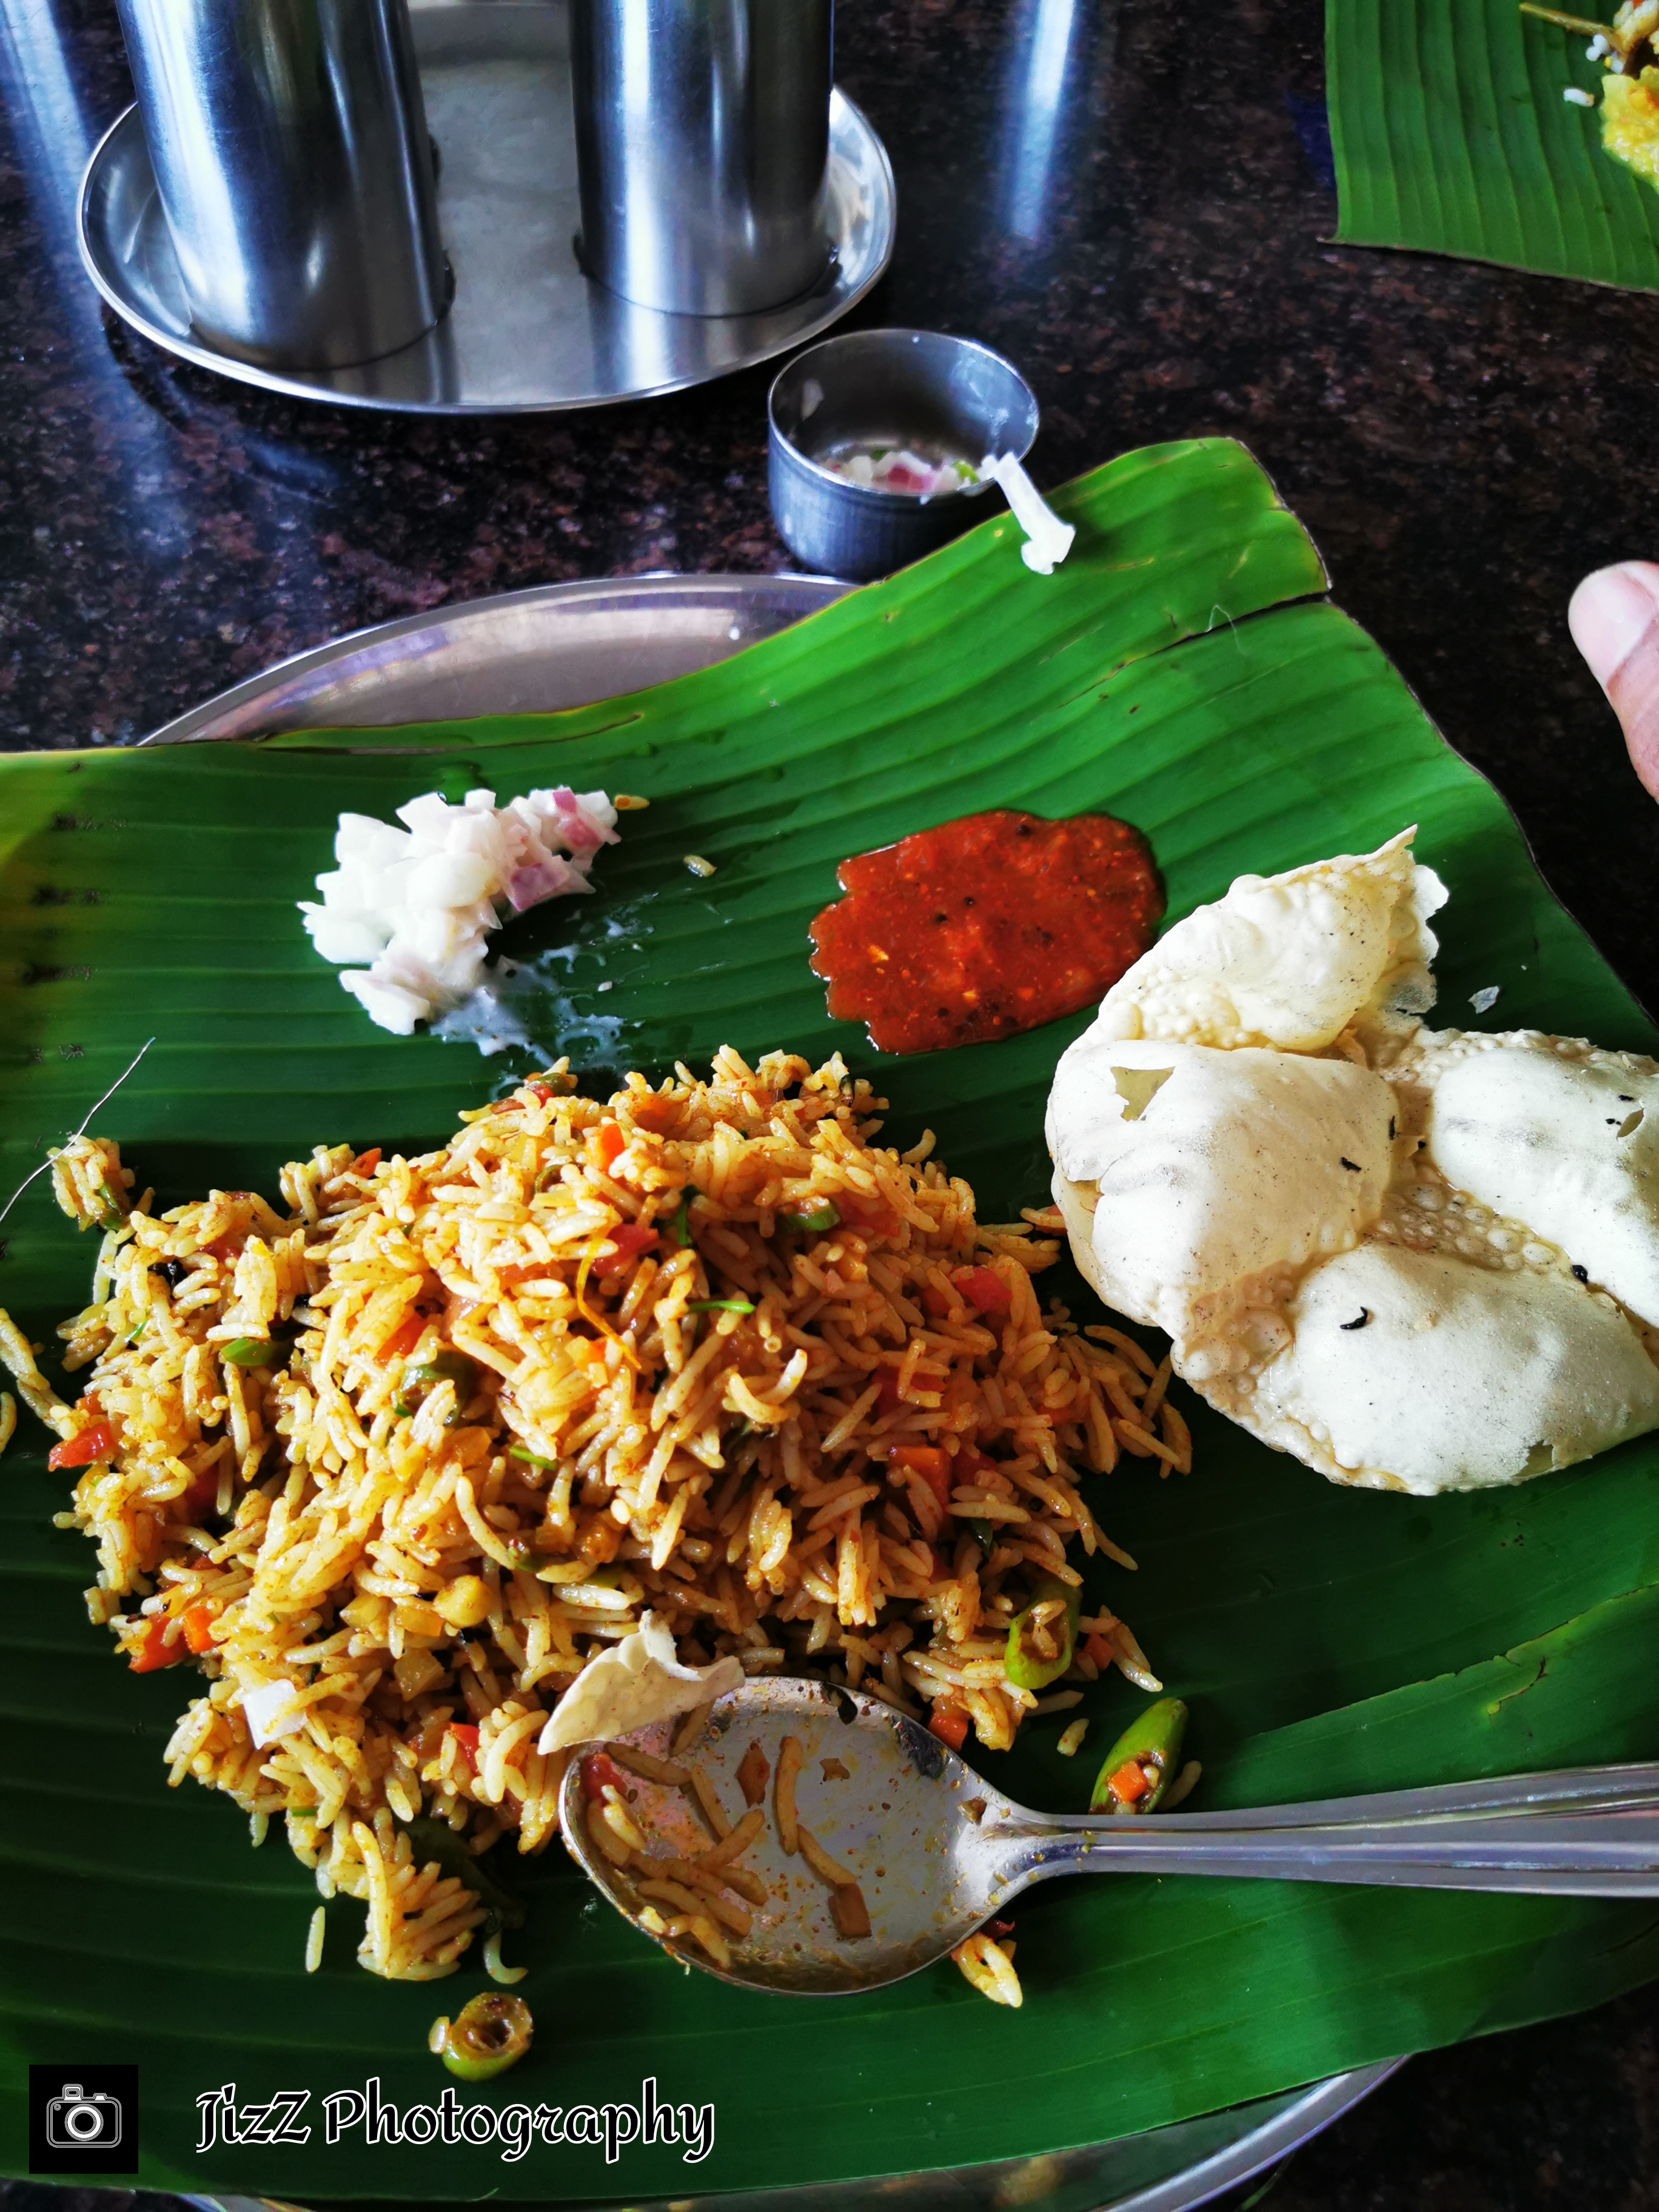food: (0, 770, 1659, 2088), (760, 315, 1051, 517)
